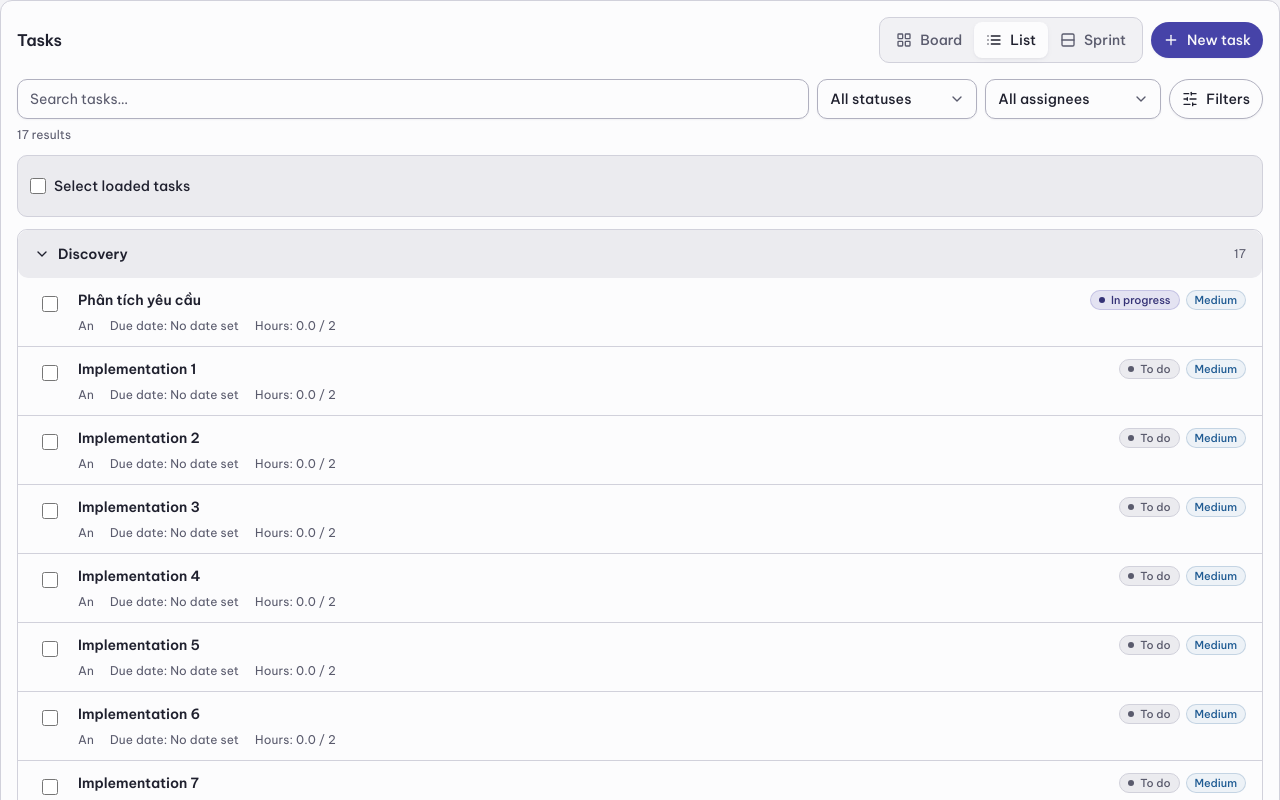
task list interactions › opens localized detail with a fixed external save footer (en)
Click the button "Phân tích yêu cầu" at [139, 300], box [78,290,201,310]
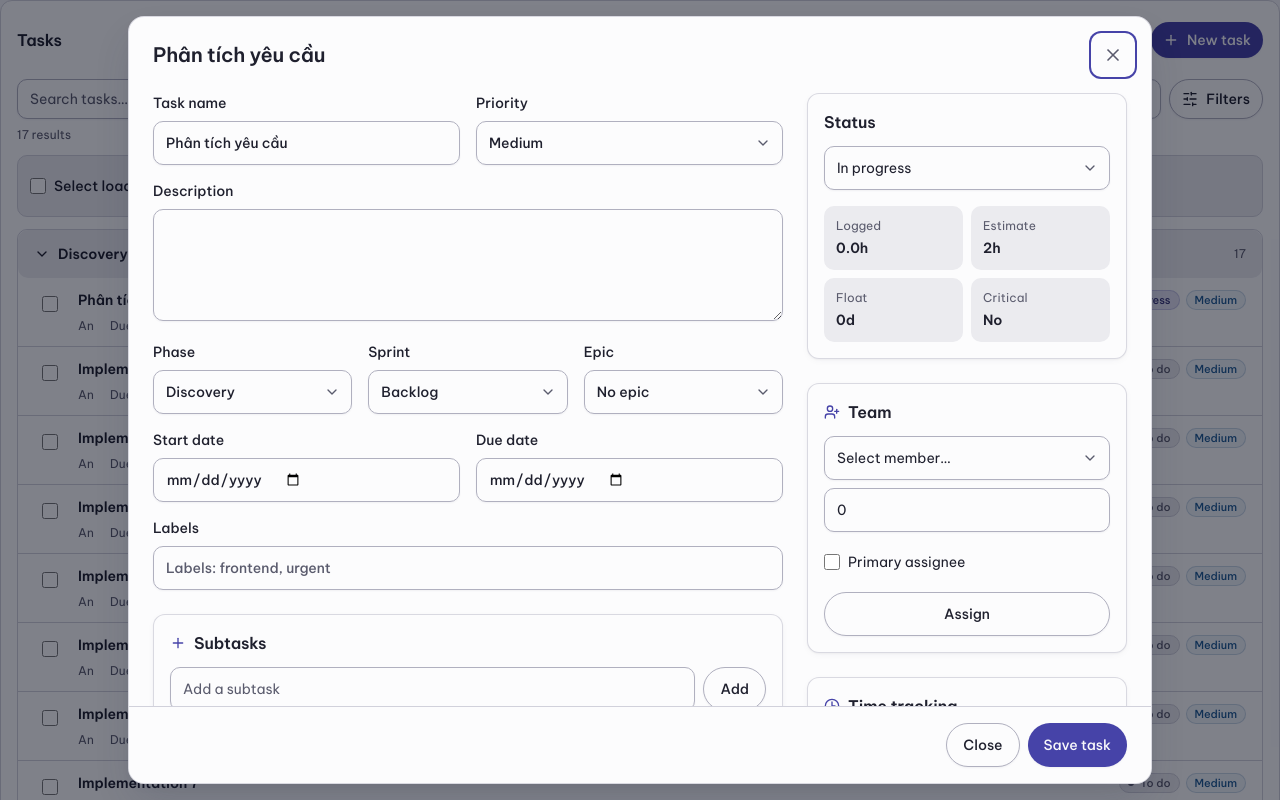
Click the button "Save task" at [1077, 745], box [1028,723,1127,767]
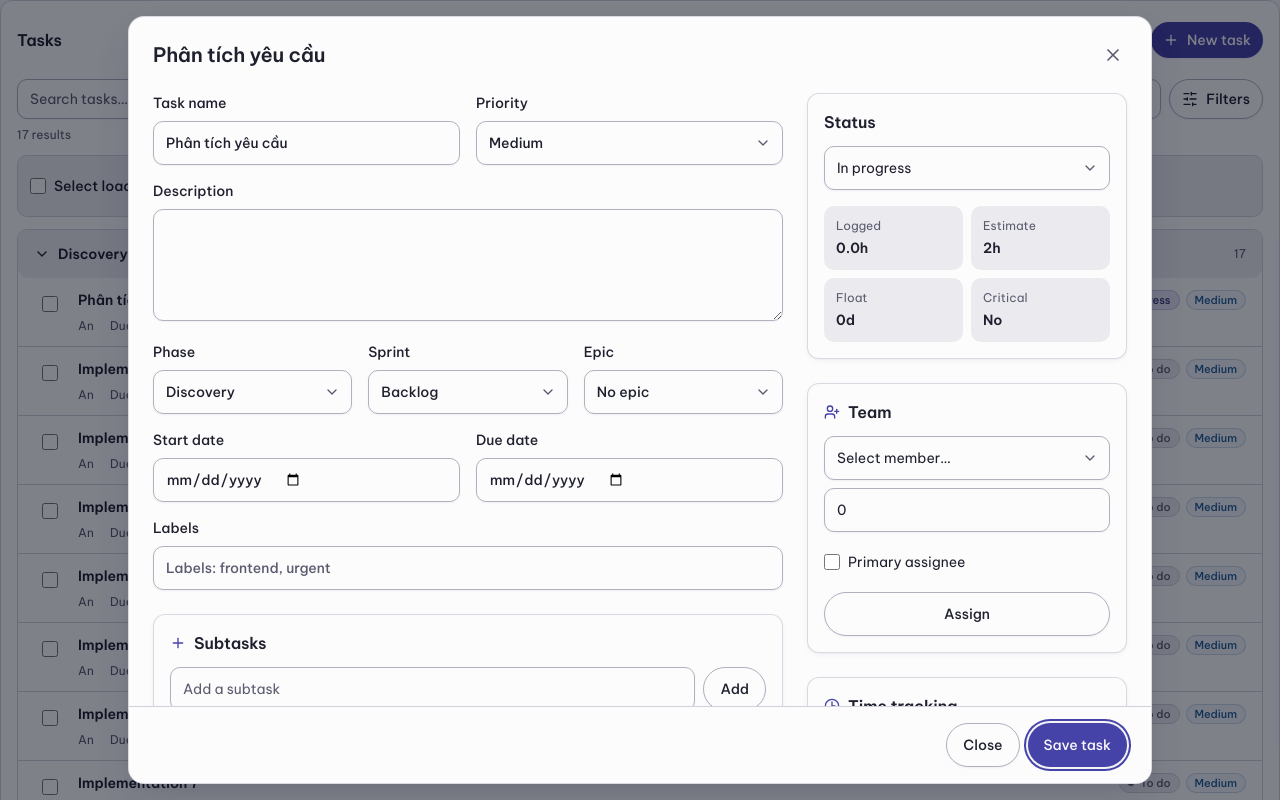
Press Escape
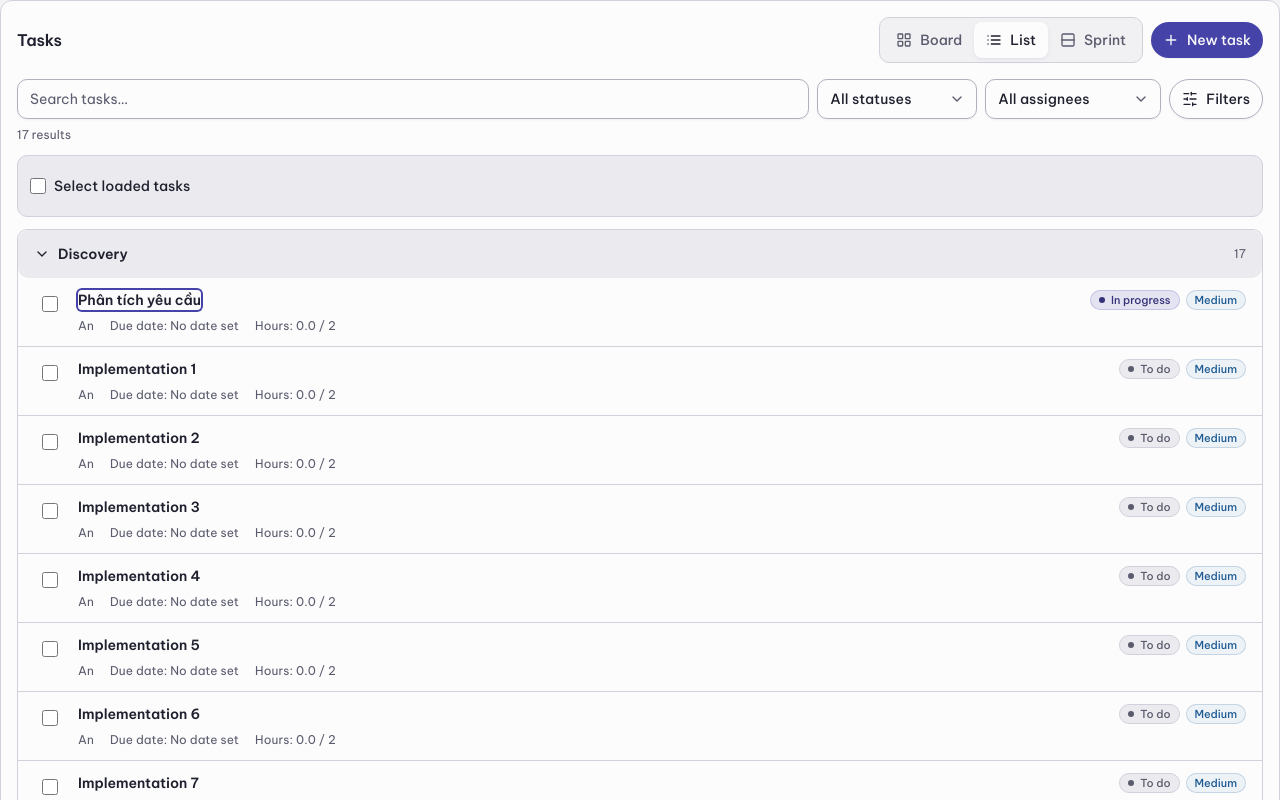
Result: the dialog is gone
